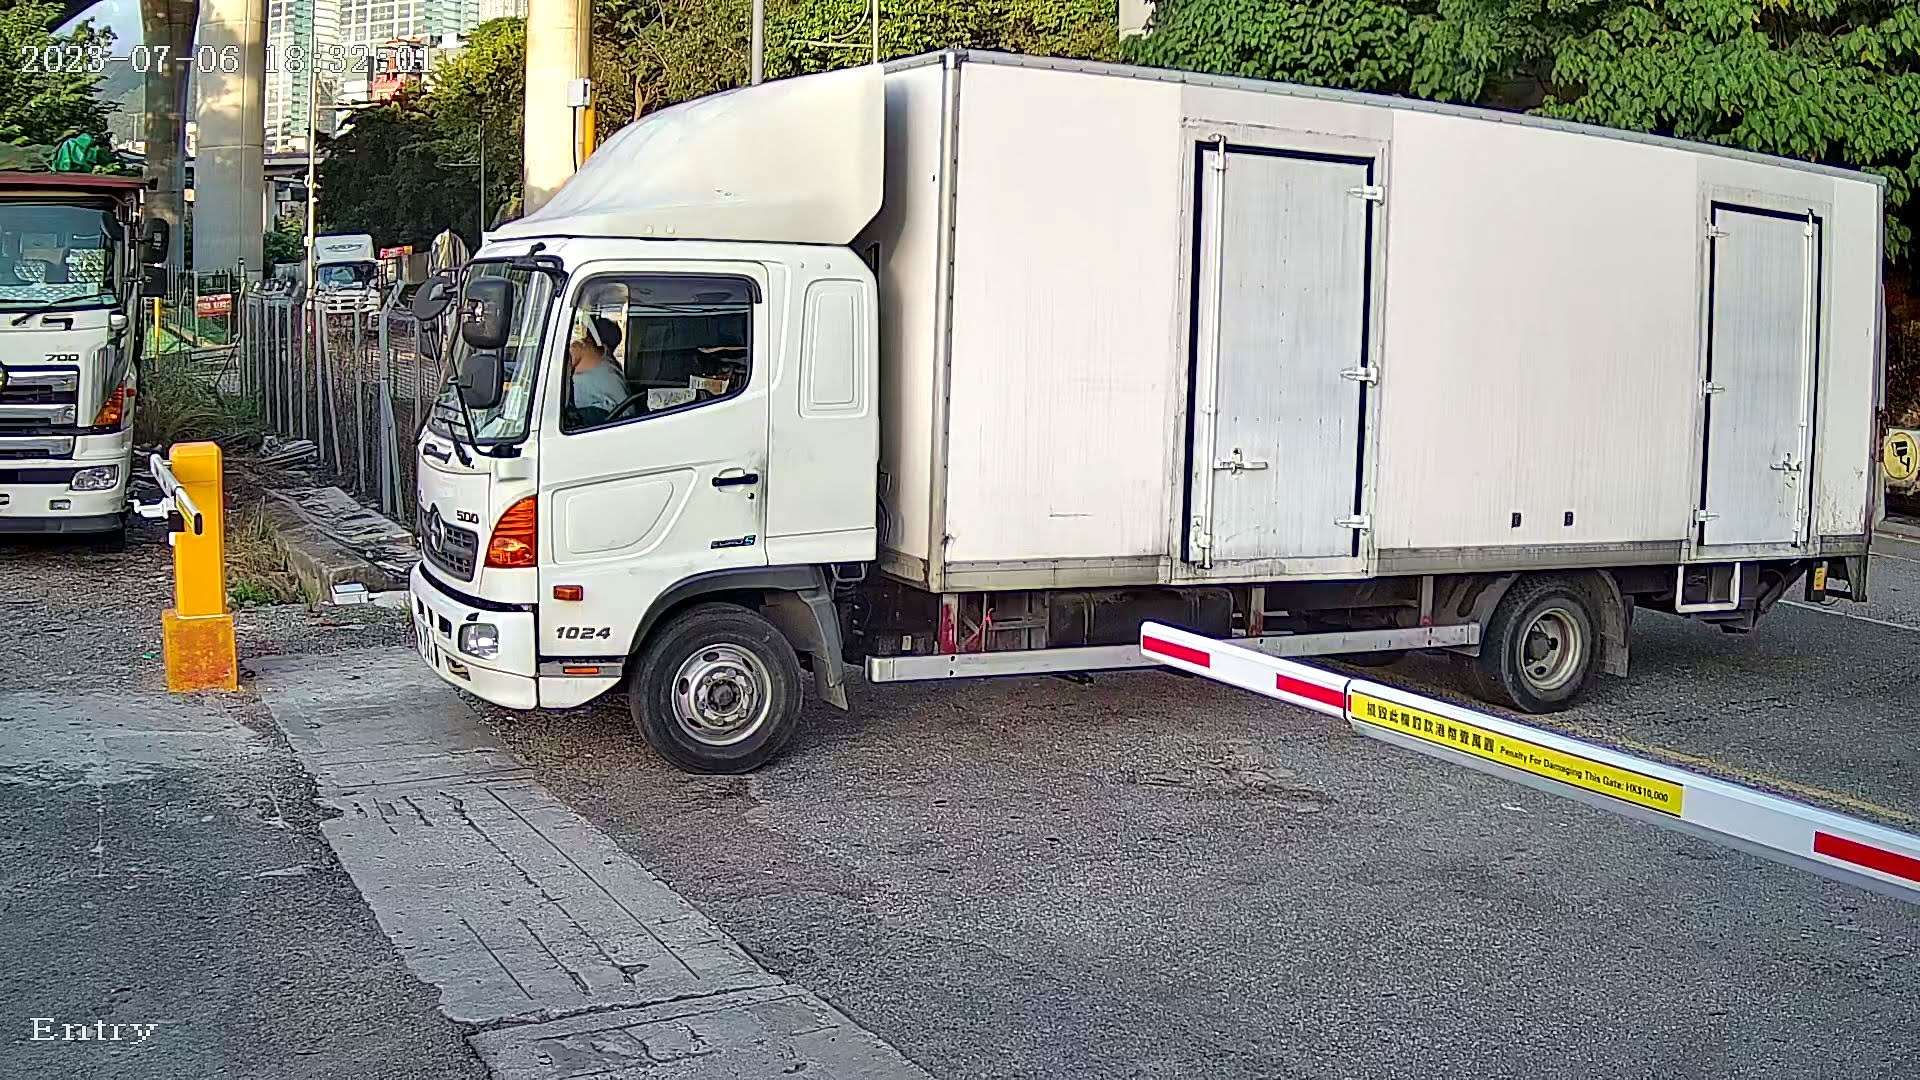truck: (369, 61, 1880, 760)
